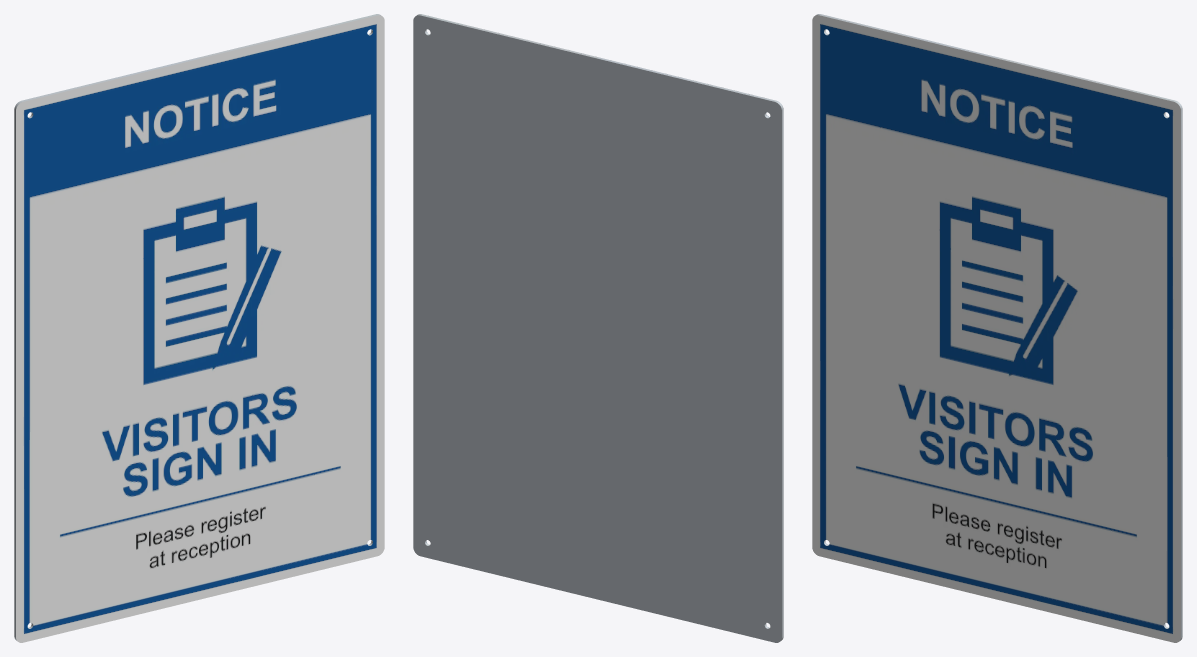
Rendered from investigation-visitor-signin-sign.glb.
3 views of the same model, side by side, from view 1: azimuth 30°, elevation 25°; view 2: azimuth 150°, elevation 25°; view 3: azimuth 330°, elevation 25° (orthographic).
Parts seen in each view (by area): view 1: Aluminium plate with through mounting holes; view 2: Aluminium plate with through mounting holes; view 3: Aluminium plate with through mounting holes.
Part boxes in pixels (x1=…): Aluminium plate with through mounting holes: x1=14, y1=14, x2=384, y2=642; Aluminium plate with through mounting holes: x1=413, y1=14, x2=783, y2=642; Aluminium plate with through mounting holes: x1=812, y1=14, x2=1182, y2=642.
Bounding box in the file's own units: 0.254 × 0.356 × 0.002.
Materials: 2 (2 with a texture image).
